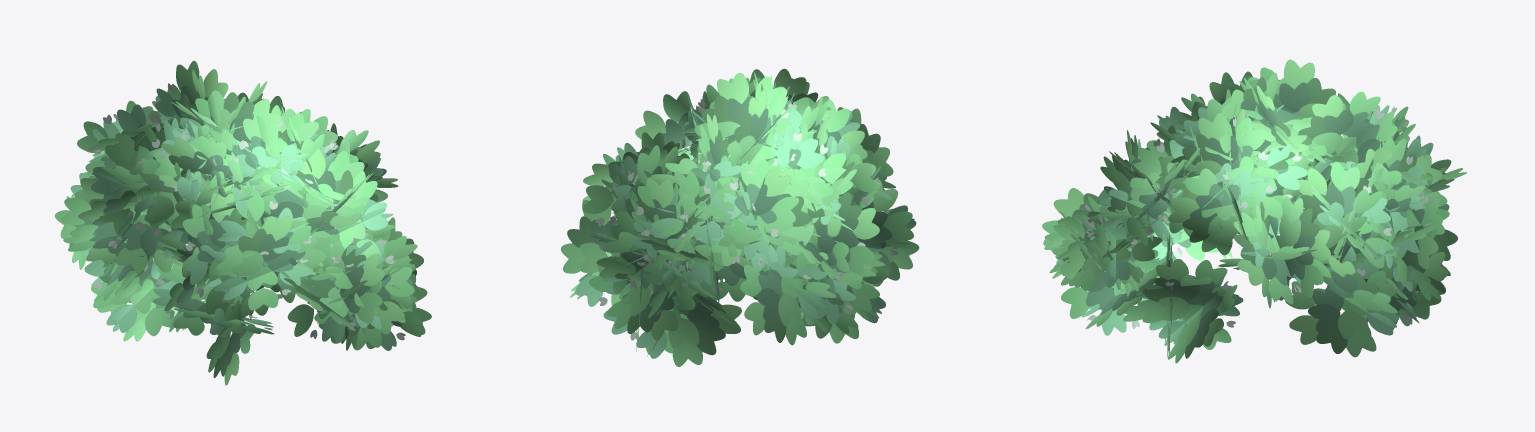
The model's file is bush_LOD1.fbx.
The picture shows the model from 3 angles, left to right: view 1: azimuth 30°, elevation 25°; view 2: azimuth 150°, elevation 25°; view 3: azimuth 270°, elevation 25°; orthographic projection.
Visible parts, largest first — view 1: BushLeaf.002; view 2: BushLeaf.002; view 3: BushLeaf.002.
Boxes of the visible parts, x1,y1,x2,y2 form: BushLeaf.002: [55, 60, 431, 385]; BushLeaf.002: [561, 68, 919, 366]; BushLeaf.002: [1042, 59, 1466, 363].
Size of the model in its own units: 627 by 541 by 450.
